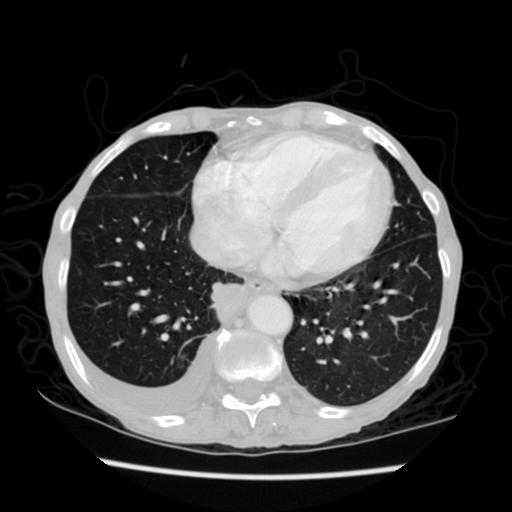nodule: (205, 278, 250, 323)
